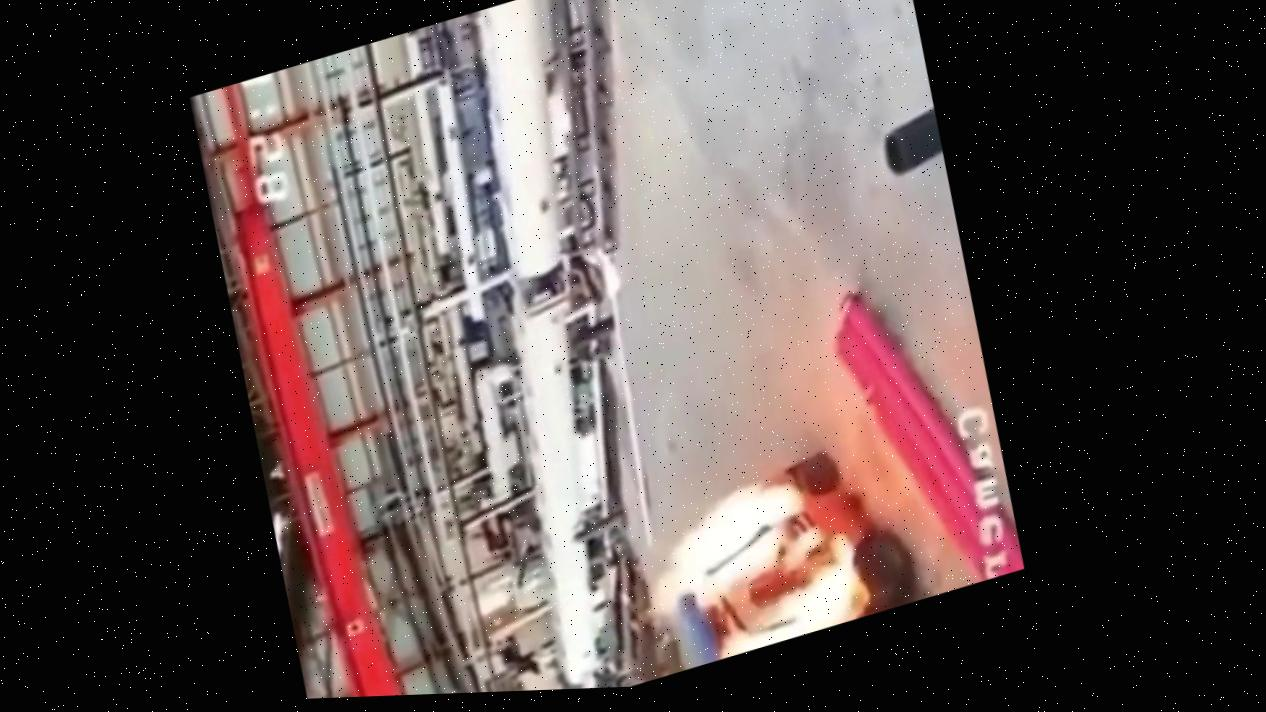fire: (542, 304, 1071, 692)
